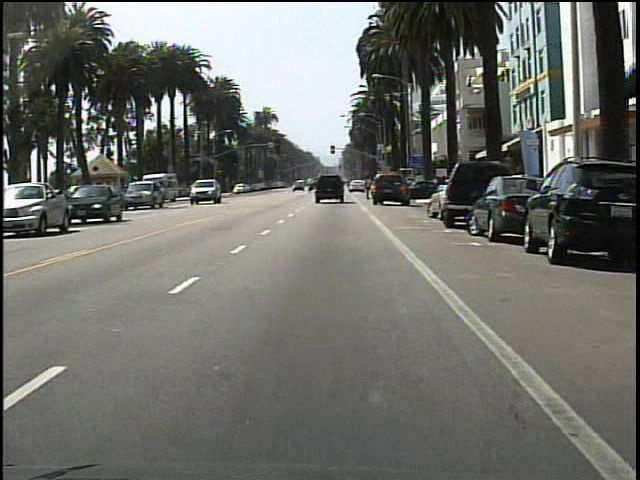person: (360, 173, 377, 204)
